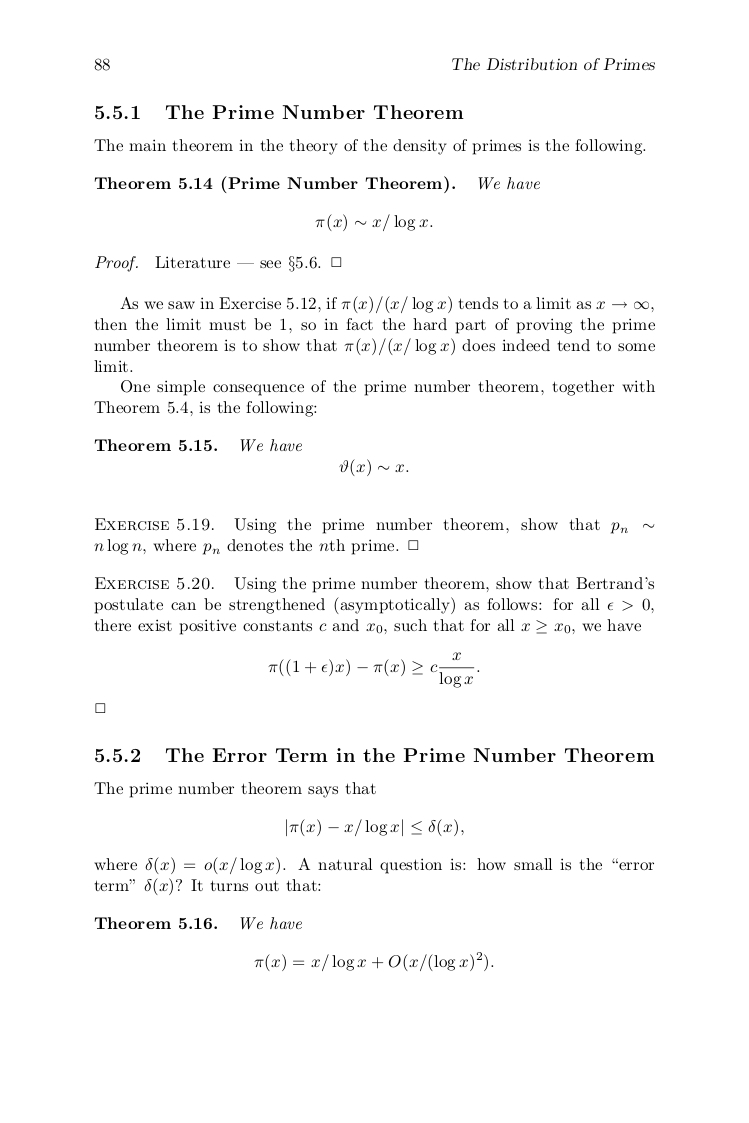formula: (268, 651, 479, 688), (254, 951, 493, 972), (286, 818, 463, 837), (315, 213, 432, 232), (339, 458, 408, 477)
